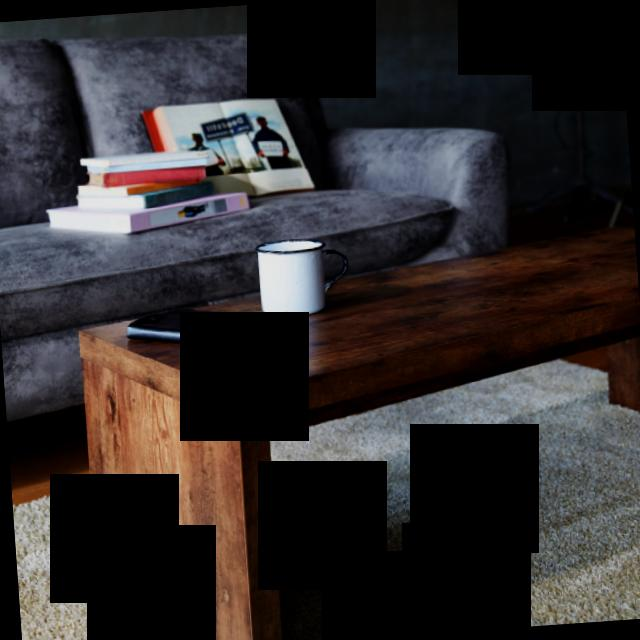vintage desk: (71, 220, 640, 640)
vintage sofa: (0, 10, 527, 425)
